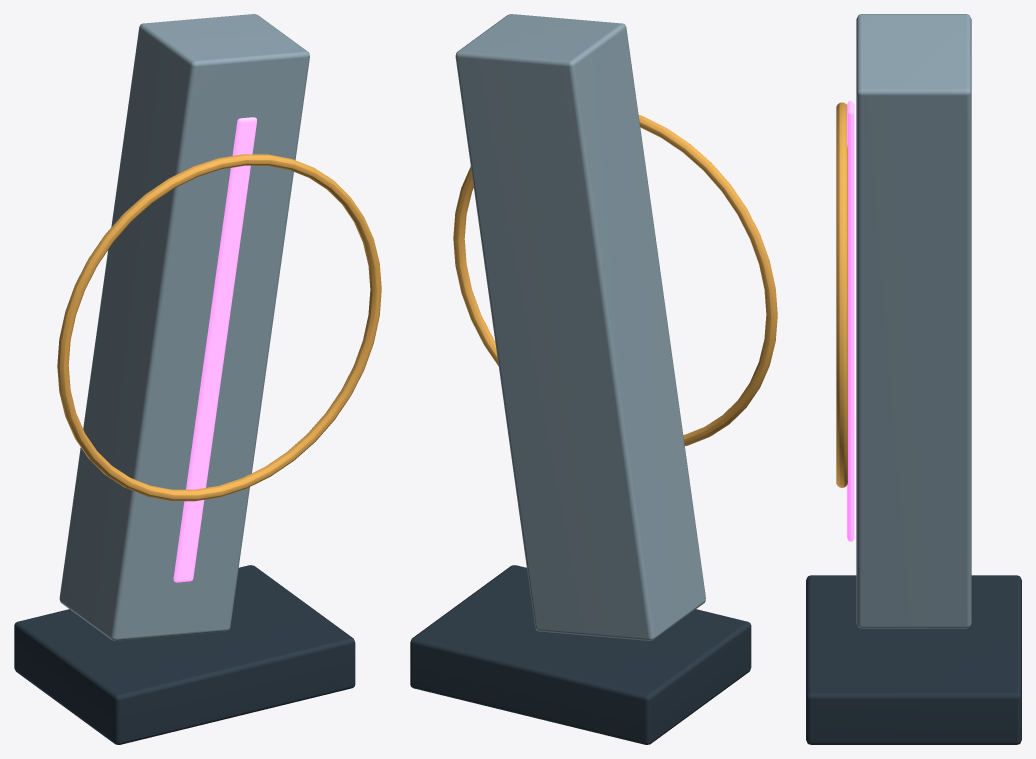
Rendered from void_obelisk.glb.
3 views of the same model, side by side, from view 1: azimuth 30°, elevation 25°; view 2: azimuth 150°, elevation 25°; view 3: azimuth 270°, elevation 25° (orthographic). The views are drawn at different scales.
Parts seen in each view (by area): view 1: Suspended monolith, Plinth, Orbital seal, Void aperture; view 2: Suspended monolith, Plinth, Orbital seal; view 3: Suspended monolith, Plinth, Orbital seal, Void aperture.
Boxes of the visible parts, x1,y1,x2,y2 form: Suspended monolith: (59, 14, 309, 640); Plinth: (14, 565, 355, 744); Orbital seal: (57, 154, 381, 501); Void aperture: (173, 117, 256, 582); Suspended monolith: (455, 14, 705, 640); Plinth: (410, 565, 751, 744); Orbital seal: (453, 115, 777, 445); Suspended monolith: (856, 14, 971, 628); Plinth: (806, 575, 1021, 744); Orbital seal: (836, 102, 847, 487); Void aperture: (847, 100, 854, 541).
Size of the model in its own units: 2.68 by 5.09 by 1.5.
